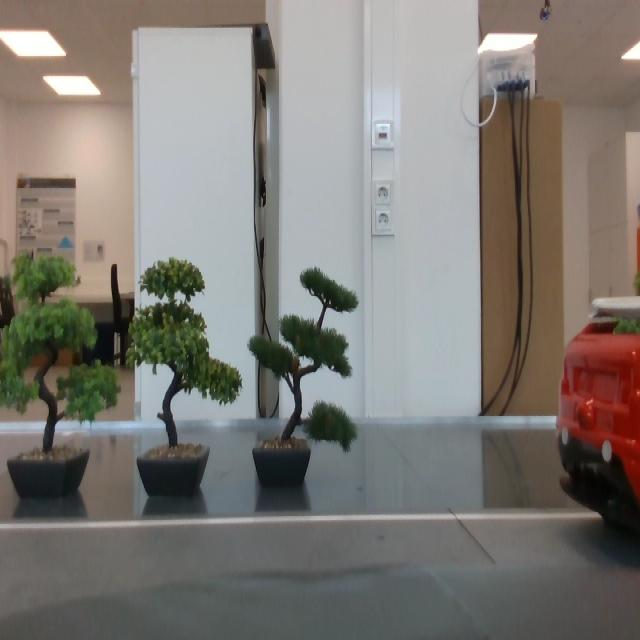car: (556, 296, 640, 533)
potted plant: (1, 249, 121, 498), (127, 256, 243, 497), (248, 265, 359, 488)
